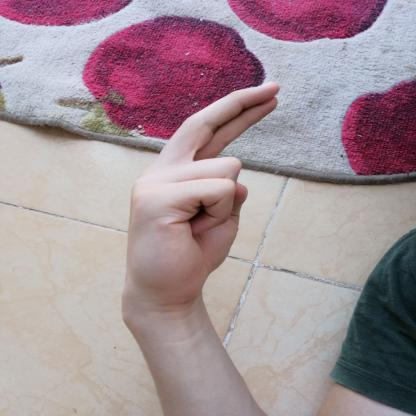ZAY: (110, 75, 295, 322)
